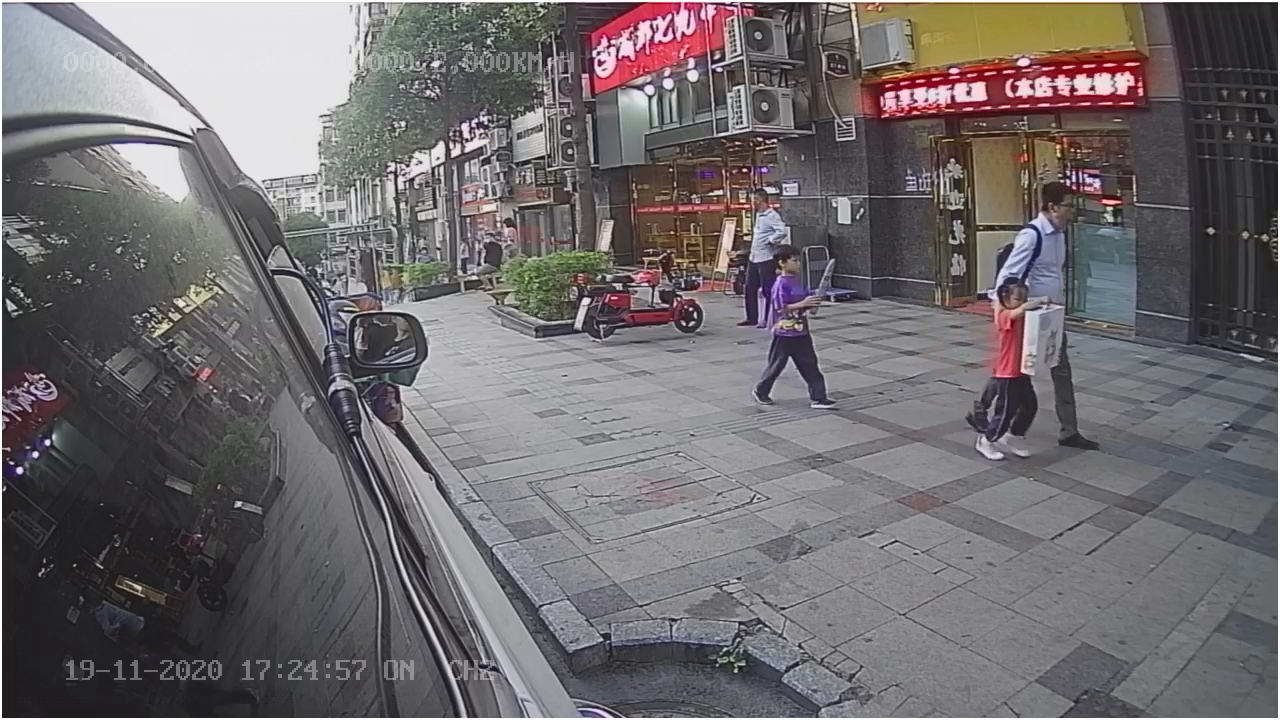person: (743, 246, 844, 417), (1012, 178, 1081, 278)
